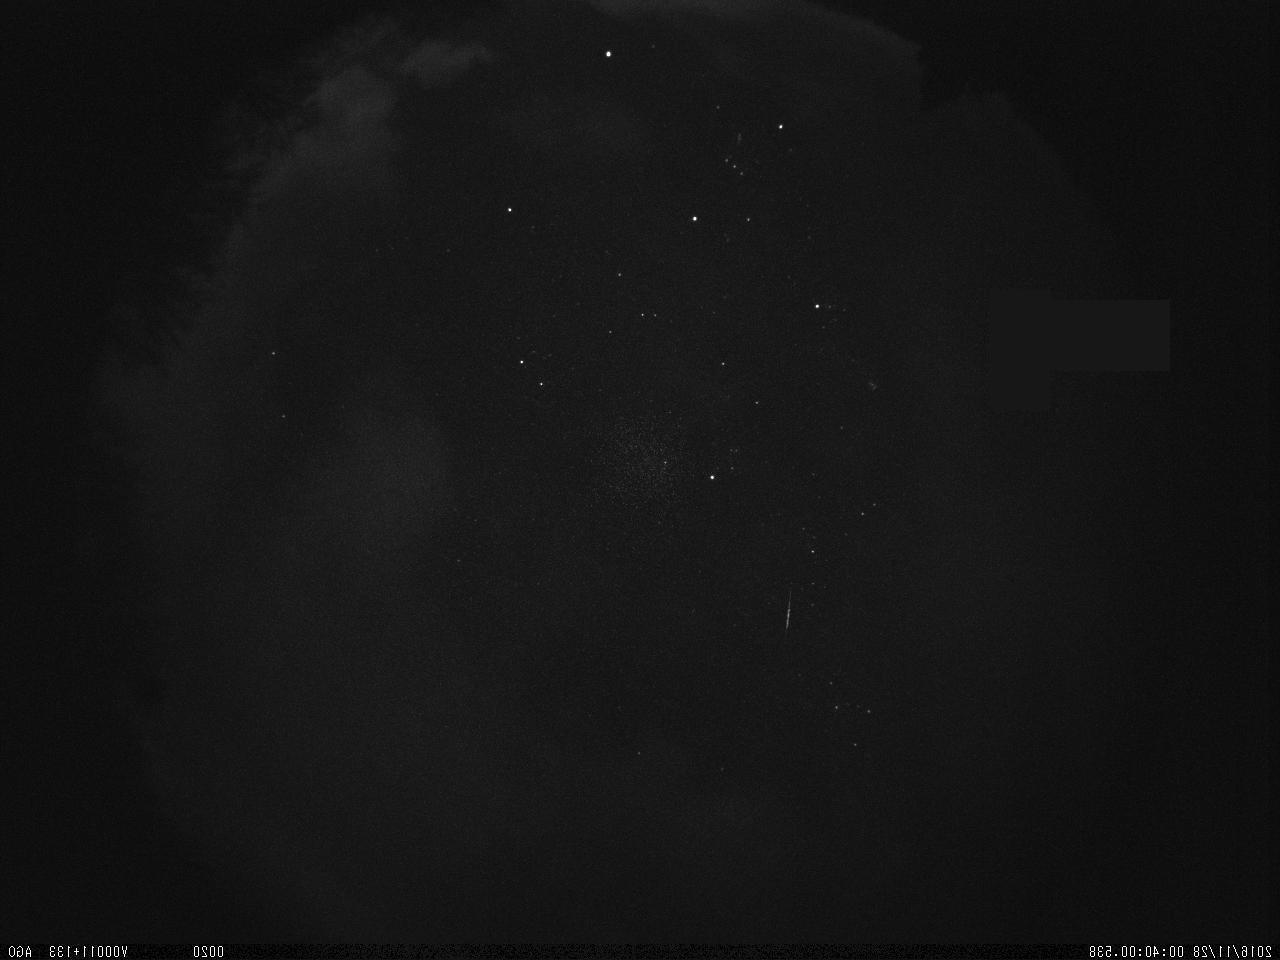meteor: (747, 566, 825, 645)
